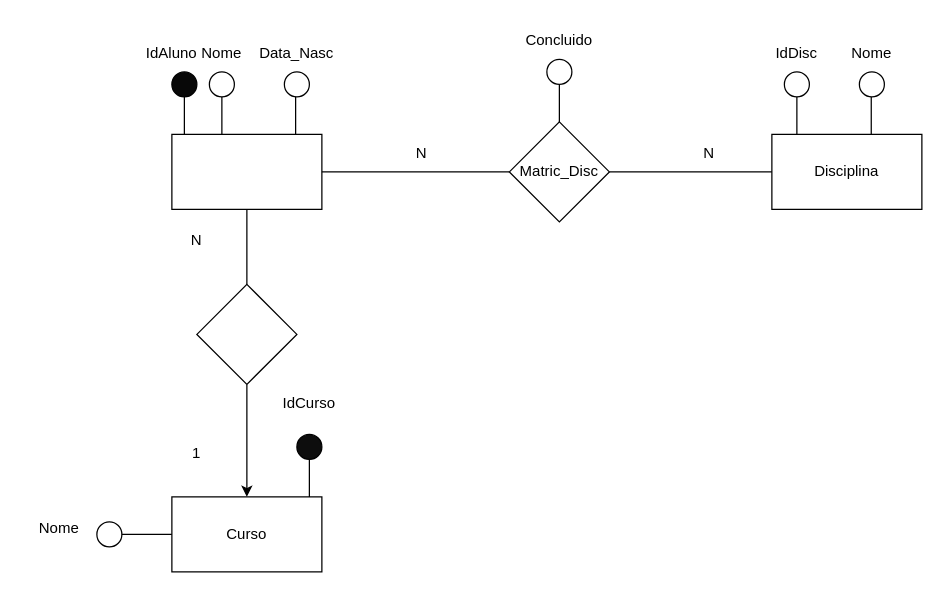
Some shapes in this 944 by 594 pixel diagram are drawn without their labels. Here are the shapes that lost their labels. From the top down, the box of each, then its label:
(171, 133, 322, 209): Aluno
(196, 283, 297, 384): Matric_Curso
